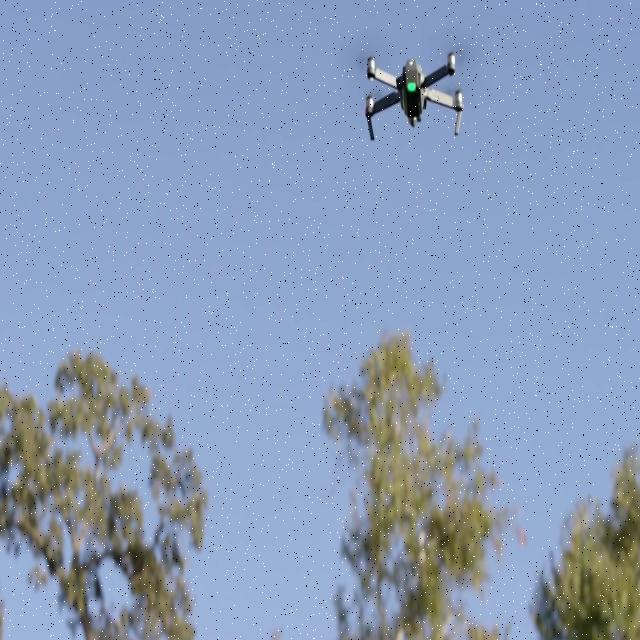UAV: (365, 49, 464, 141)
